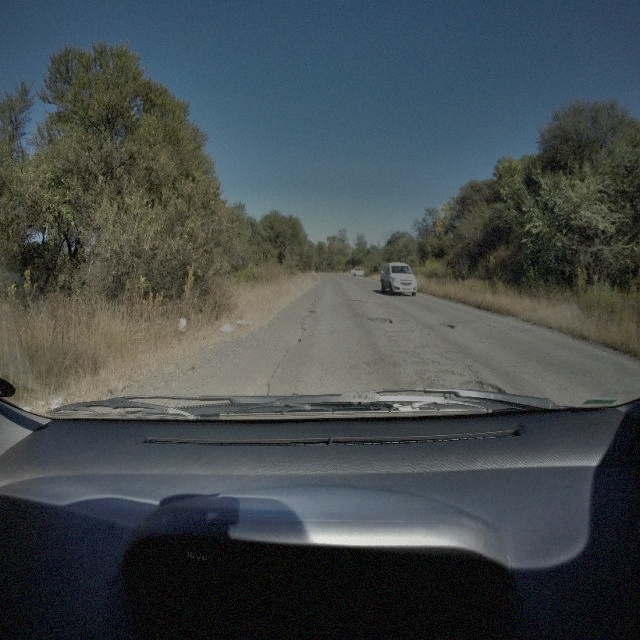pothole: (458, 372, 508, 393), (365, 312, 392, 325), (439, 318, 453, 329)
